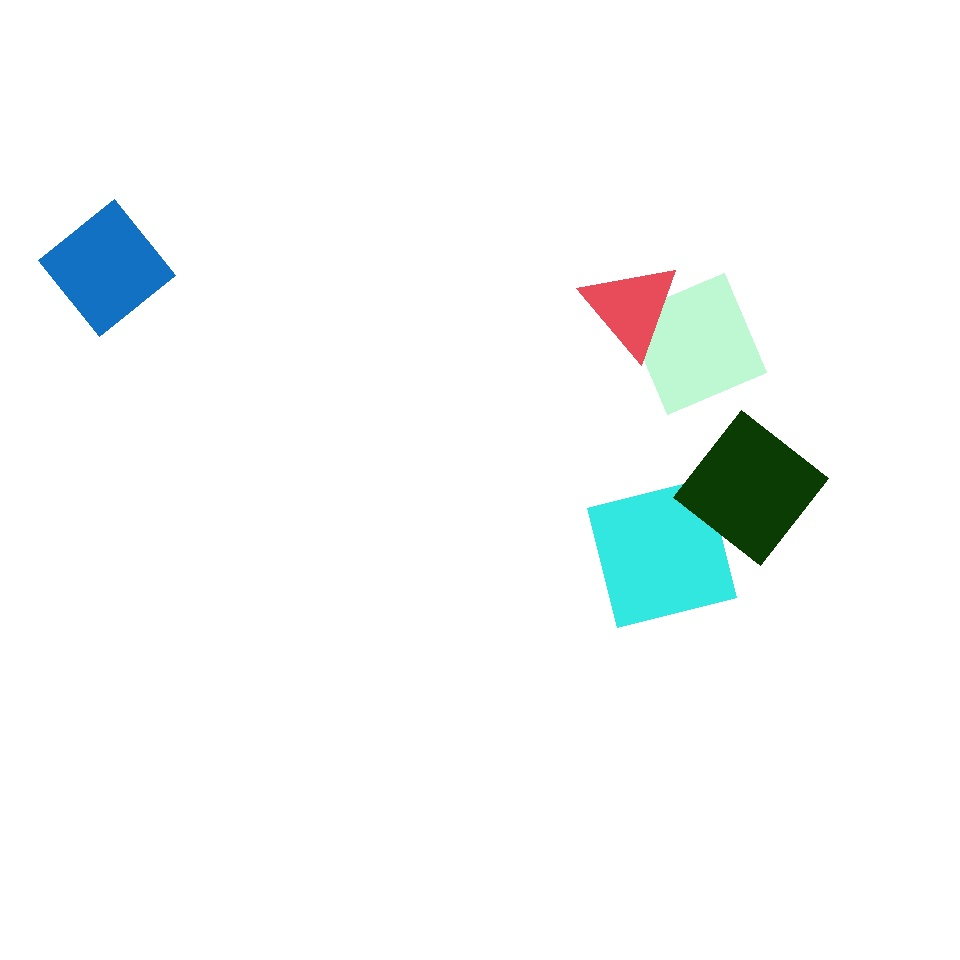circle: (394, 202, 694, 478), (343, 220, 610, 500), (610, 716, 748, 872), (827, 13, 943, 131), (582, 260, 680, 356)
square: (472, 484, 738, 750), (674, 410, 828, 565), (588, 478, 736, 628), (625, 274, 766, 414), (39, 200, 176, 336), (282, 624, 398, 740)
